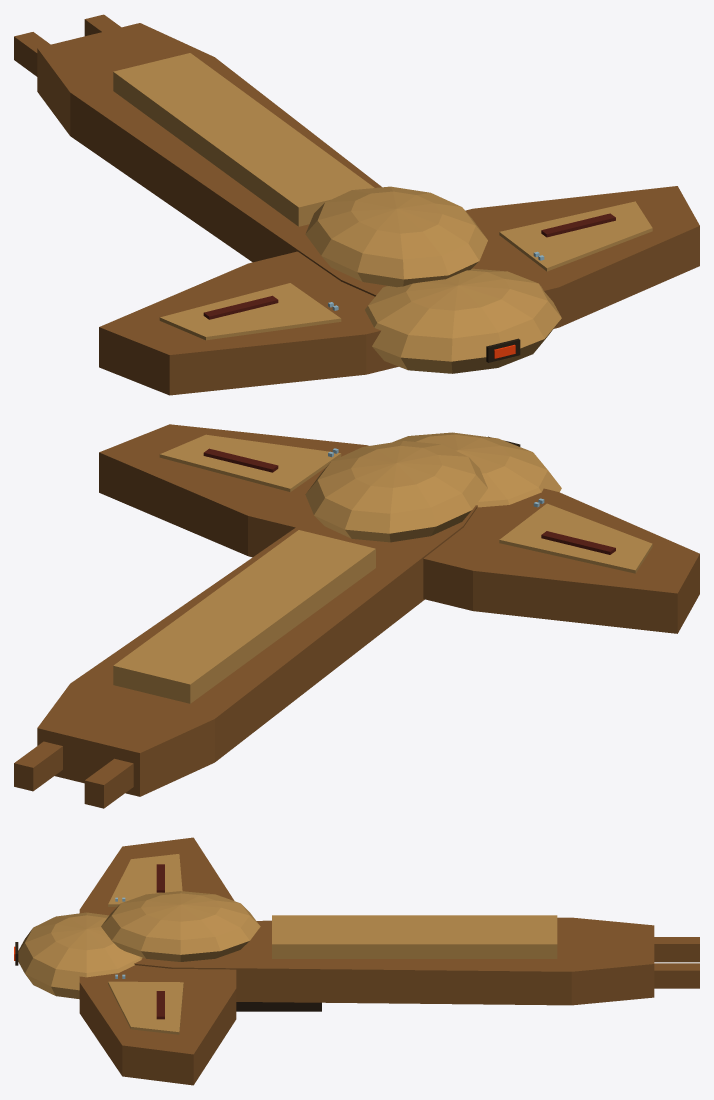
File: cardassian-cruiser_LOD2.obj
3 views of the same model, one above another, from view 1: azimuth 30°, elevation 25°; view 2: azimuth 150°, elevation 25°; view 3: azimuth 270°, elevation 25° (orthographic). The views are drawn at different scales.
Parts seen in each view (by area): view 1: Broad_Shoulders, Long_Spine, Dorsal_Spine, Forward_Command_Head, Layered_Bridge, Shoulder_Plates, Aft_Fork, Inset_Bands; view 2: Broad_Shoulders, Long_Spine, Dorsal_Spine, Layered_Bridge, Shoulder_Plates, Forward_Command_Head, Aft_Fork, Inset_Bands; view 3: Long_Spine, Broad_Shoulders, Dorsal_Spine, Layered_Bridge, Forward_Command_Head, Shoulder_Plates, Aft_Fork, Ventral_Keel, Inset_Bands.
Part boxes in pixels (left/top/right/bottom): Broad_Shoulders: left=99, top=186, right=699, bottom=395; Long_Spine: left=37, top=23, right=476, bottom=296; Dorsal_Spine: left=113, top=53, right=374, bottom=226; Forward_Command_Head: left=365, top=268, right=561, bottom=373; Layered_Bridge: left=305, top=186, right=487, bottom=287; Shoulder_Plates: left=159, top=201, right=652, bottom=340; Aft_Fork: left=14, top=14, right=120, bottom=76; Inset_Bands: left=203, top=213, right=615, bottom=319; Broad_Shoulders: left=99, top=424, right=699, bottom=633; Long_Spine: left=37, top=505, right=477, bottom=796; Dorsal_Spine: left=113, top=530, right=375, bottom=703; Layered_Bridge: left=305, top=441, right=487, bottom=542; Shoulder_Plates: left=159, top=434, right=652, bottom=573; Forward_Command_Head: left=393, top=432, right=561, bottom=507; Aft_Fork: left=14, top=741, right=133, bottom=808; Inset_Bands: left=203, top=448, right=615, bottom=554; Long_Spine: left=134, top=917, right=654, bottom=1005; Broad_Shoulders: left=79, top=837, right=236, bottom=1085; Dorsal_Spine: left=272, top=915, right=557, bottom=958; Layered_Bridge: left=101, top=891, right=260, bottom=961; Forward_Command_Head: left=18, top=912, right=142, bottom=999; Shoulder_Plates: left=108, top=854, right=183, bottom=1034; Aft_Fork: left=654, top=937, right=699, bottom=988; Ventral_Keel: left=236, top=1002, right=321, bottom=1011; Inset_Bands: left=156, top=864, right=164, bottom=1019.
Size of the model in its own units: 360 by 72.5 by 481.
